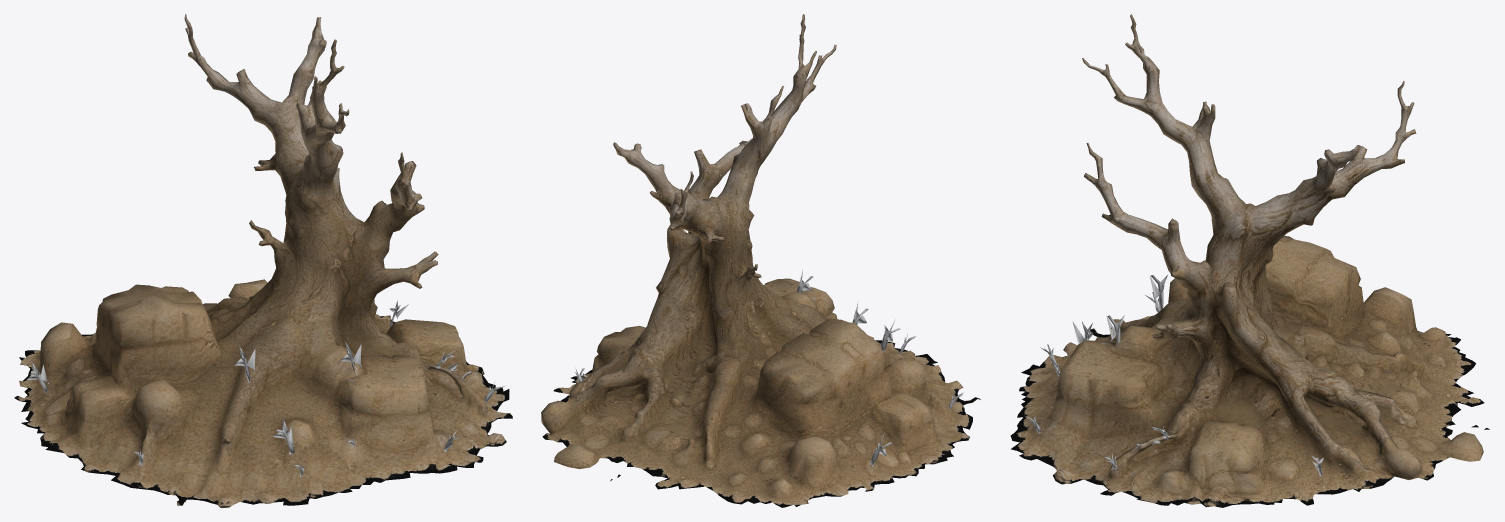
The model's file is plant (1).glb.
The picture shows the model from 3 angles, left to right: view 1: azimuth 30°, elevation 25°; view 2: azimuth 150°, elevation 25°; view 3: azimuth 270°, elevation 25°; orthographic projection. The views are drawn at different scales.
Visible parts, largest first — view 1: tripo_node_1f3578ae-86c9-41e0-8a0f-c4a079ae9286; view 2: tripo_node_1f3578ae-86c9-41e0-8a0f-c4a079ae9286; view 3: tripo_node_1f3578ae-86c9-41e0-8a0f-c4a079ae9286.
Boxes of the visible parts, <box> form: tripo_node_1f3578ae-86c9-41e0-8a0f-c4a079ae9286: <box>14,14,512,507</box>; tripo_node_1f3578ae-86c9-41e0-8a0f-c4a079ae9286: <box>541,14,980,507</box>; tripo_node_1f3578ae-86c9-41e0-8a0f-c4a079ae9286: <box>1010,14,1489,507</box>.
Bounding box in the file's own units: 0.998 × 0.9277 × 0.998.
1 material, 1 textured.
